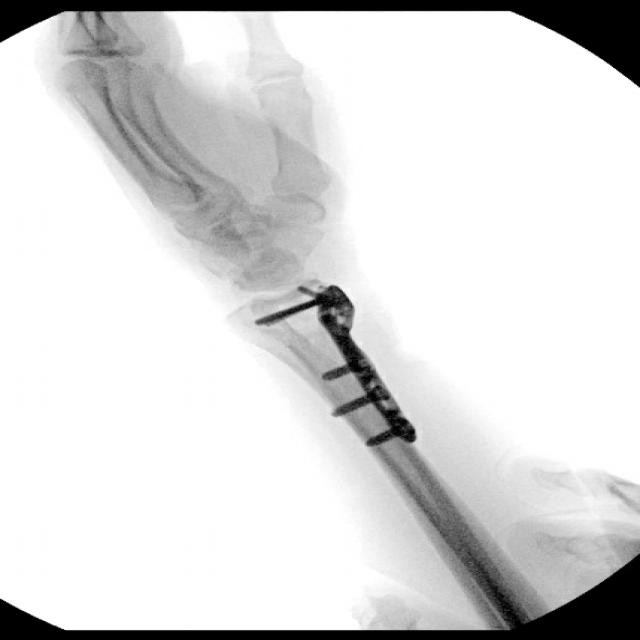x-ray: (258, 272, 433, 472)
